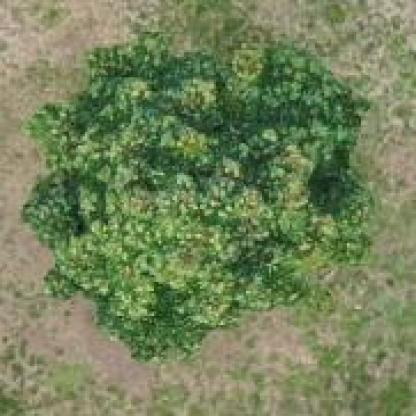Deciduous Tree: (17, 29, 394, 364)
